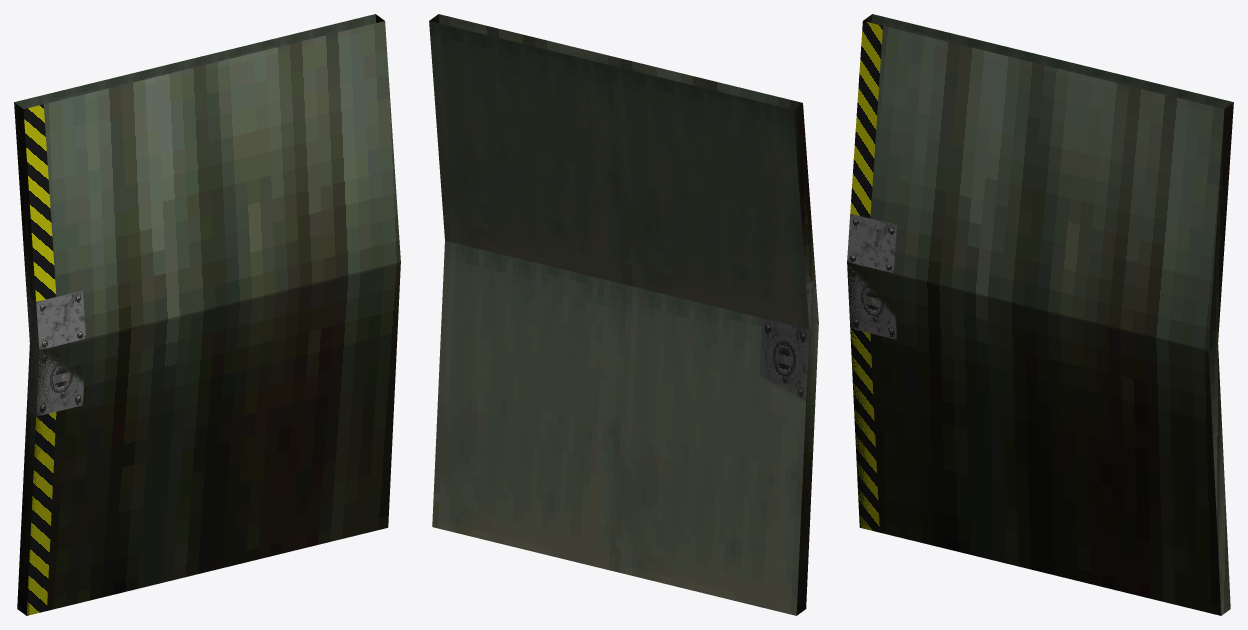
File: primary_130.glb
The picture shows the model from 3 angles, left to right: view 1: azimuth 30°, elevation 25°; view 2: azimuth 150°, elevation 25°; view 3: azimuth 330°, elevation 25°; orthographic projection.
Visible parts, largest first — view 1: Object; view 2: Object; view 3: Object.
Part boxes in pixels (box(x1,y1,x2,y2)): Object: box(14, 14, 400, 615); Object: box(429, 14, 818, 615); Object: box(847, 14, 1233, 615).
Bounding box in the file's own units: 1.71 × 2.28 × 0.2071.
Materials: 11 (11 with a texture image).
